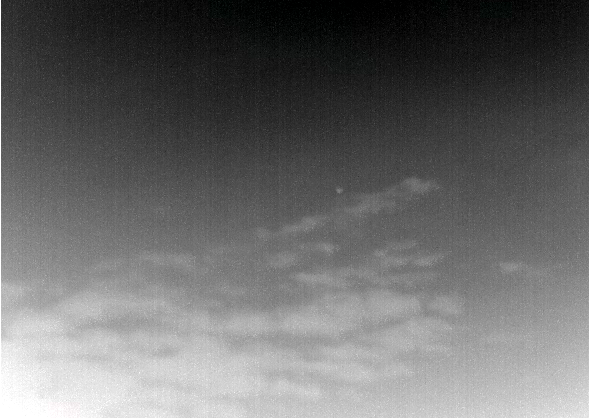dim target: (335, 188, 344, 194)
